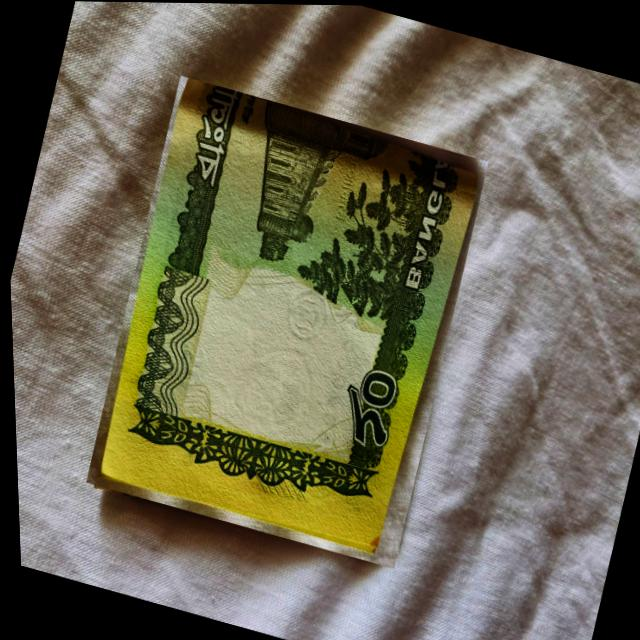Taka: (70, 74, 498, 569)
